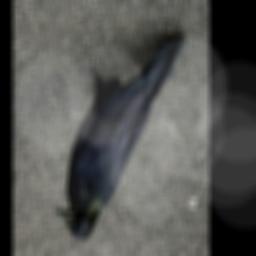Crow: (54, 30, 188, 241)
